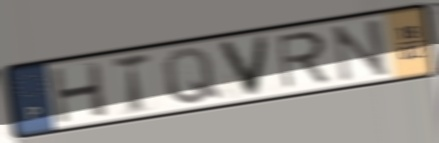H: (47, 59, 111, 126)
N: (329, 16, 393, 85)
Q: (160, 46, 226, 107)
R: (273, 29, 333, 92)
T: (110, 50, 154, 116)
V: (214, 32, 273, 99)
